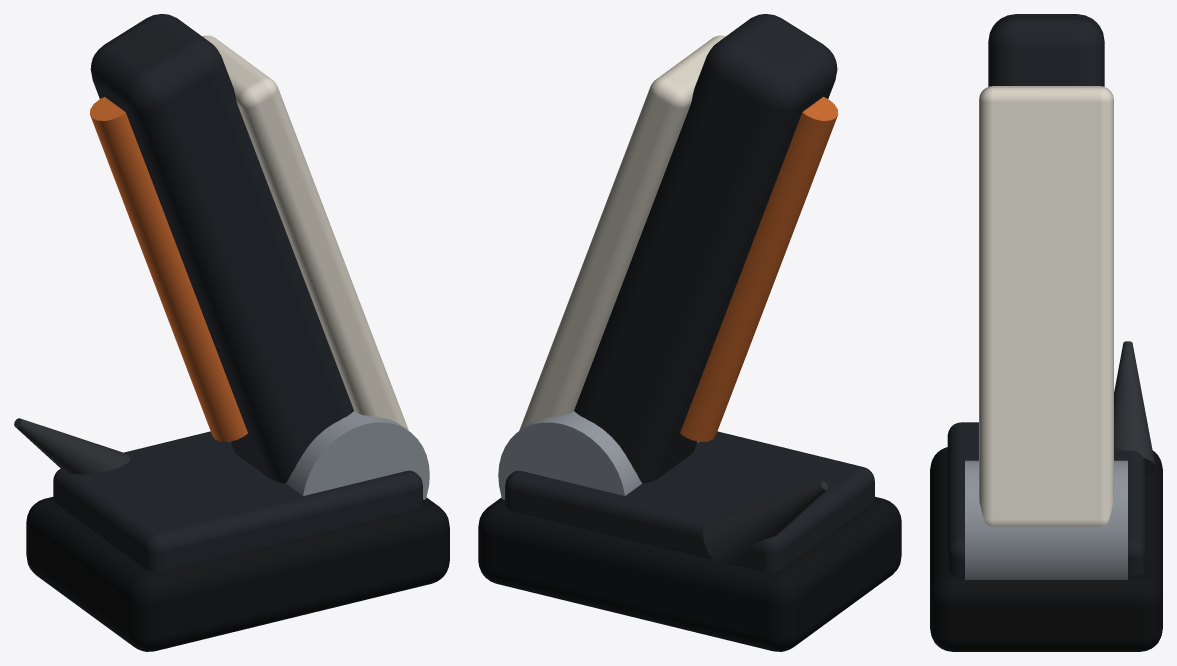
File: left_foot_link.glb
3 renders of one model, left to right at view 1: azimuth 30°, elevation 25°; view 2: azimuth 150°, elevation 25°; view 3: azimuth 270°, elevation 25°, orthographic. The views are drawn at different scales.
Parts seen in each view (by area): view 1: left_foot_link; view 2: left_foot_link; view 3: left_foot_link.
Part boxes in pixels (x1,y1,x2,y2): left_foot_link: [14, 14, 449, 651]; left_foot_link: [478, 14, 901, 651]; left_foot_link: [930, 14, 1162, 651].
Bounding box in the file's own units: 0.1597 × 0.2548 × 0.1.
